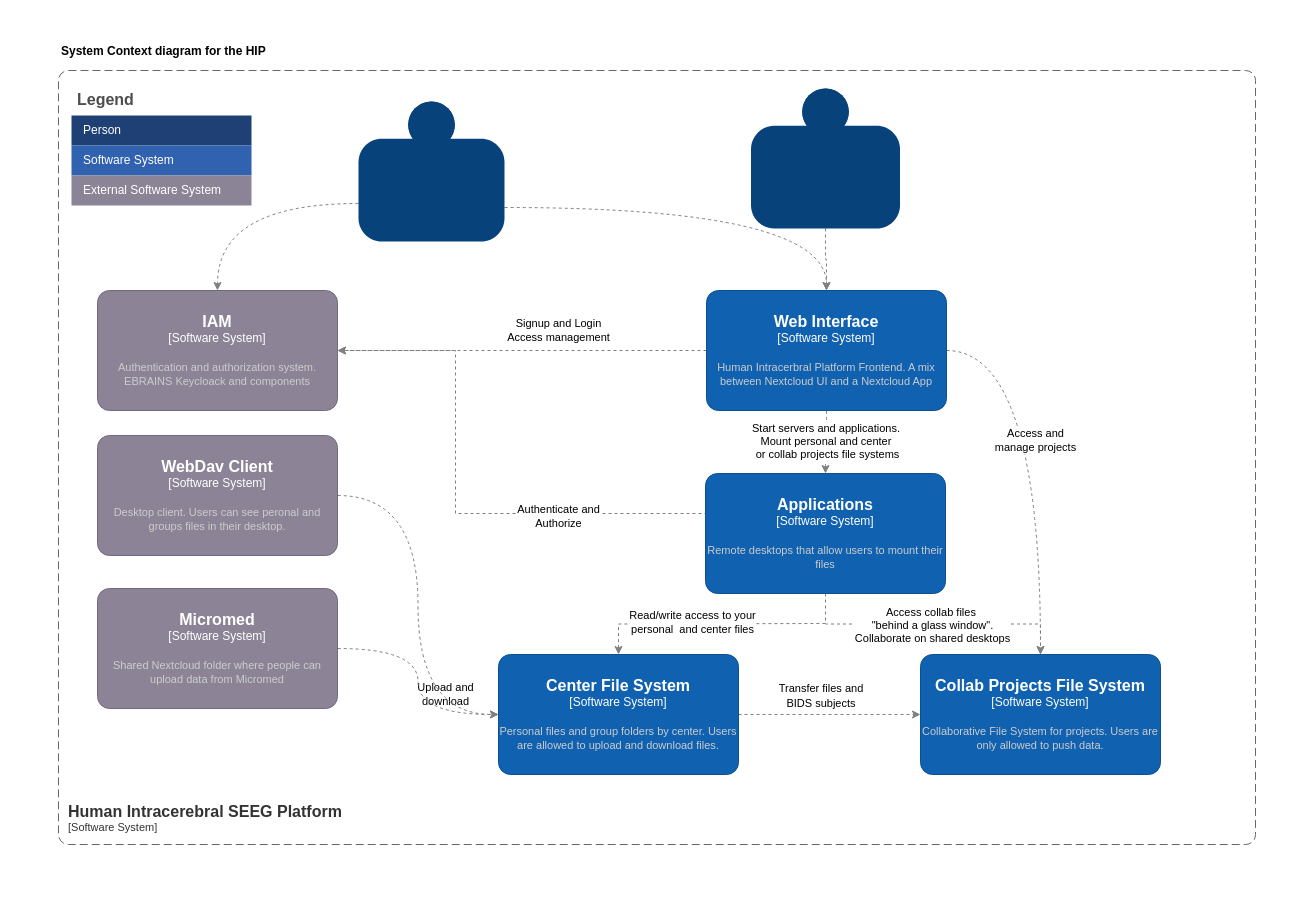
Some shapes in this 1309 by 907 pixel diagram are drawn without their labels. Here are the shapes that lost their labels. From the top down, the centre of each, then its label:
the point at 431,171: Admin [Person] HIP Admins
the point at 825,158: User [Person] HIP PIs and members
